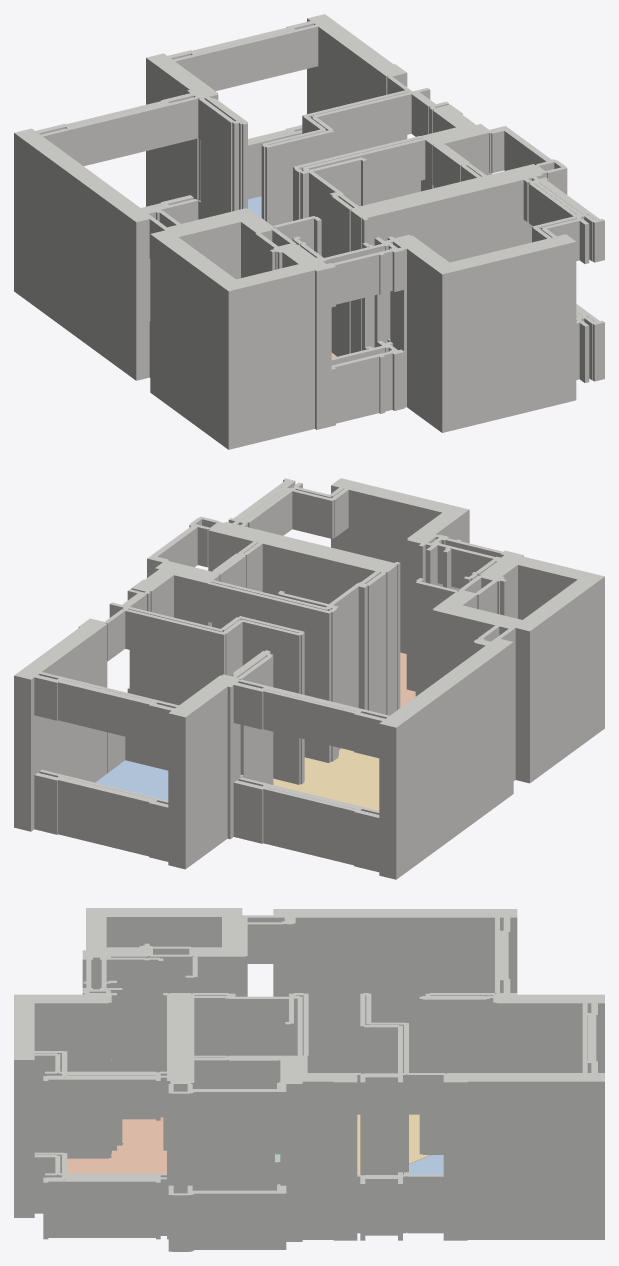
3 renders of one model, top to bottom at view 1: azimuth 30°, elevation 25°; view 2: azimuth 150°, elevation 25°; view 3: azimuth 270°, elevation 25°, orthographic. The views are drawn at different scales.
Visible parts, largest first — view 1: walls; view 2: walls, room:living:1, room:bedroom:0; view 3: walls, room:kitchen:5, room:living:1, room:bedroom:0.
Part boxes in pixels (box(x1,y1,x2,y2)): walls: box(14, 14, 604, 449); walls: box(14, 478, 604, 879); room:living:1: box(273, 748, 379, 810); room:bedroom:0: box(95, 760, 168, 800); walls: box(14, 908, 604, 1251); room:kitchen:5: box(67, 1117, 166, 1173); room:living:1: box(354, 1073, 429, 1174); room:bedroom:0: box(409, 1155, 443, 1174).
Bounding box in the file's own units: 7.04 × 2.8 × 9.48.
